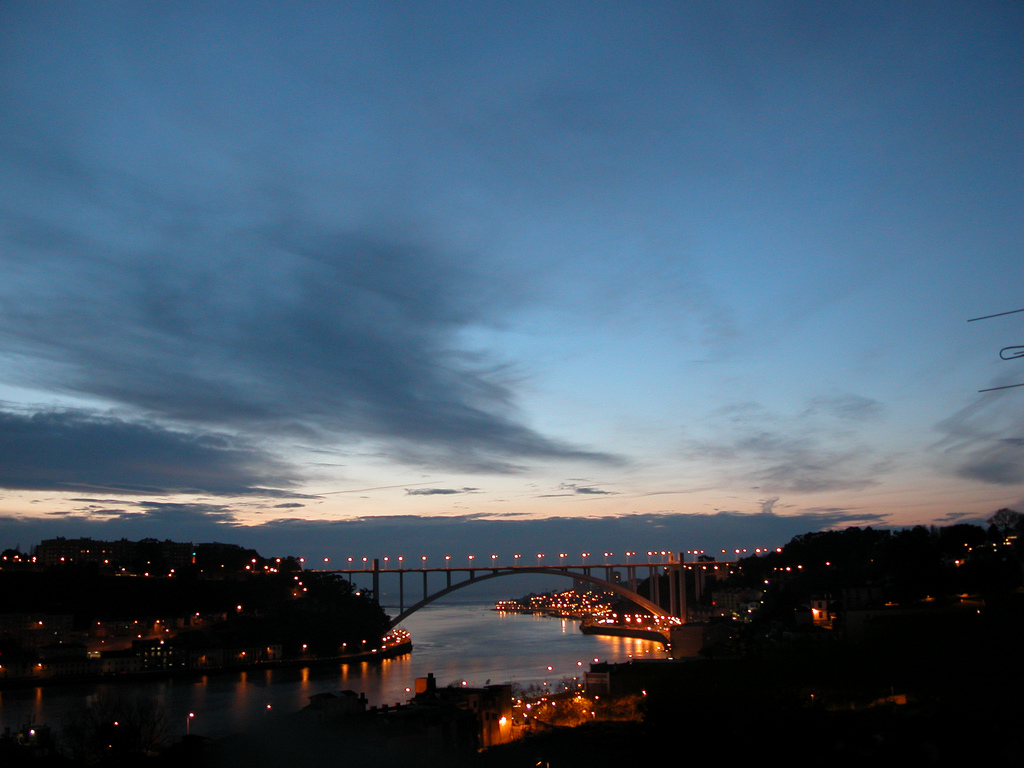arrabida: (301, 550, 743, 641)
